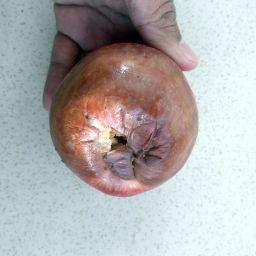apple: (29, 35, 222, 205)
